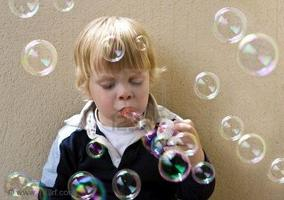person: (33, 16, 216, 199)
